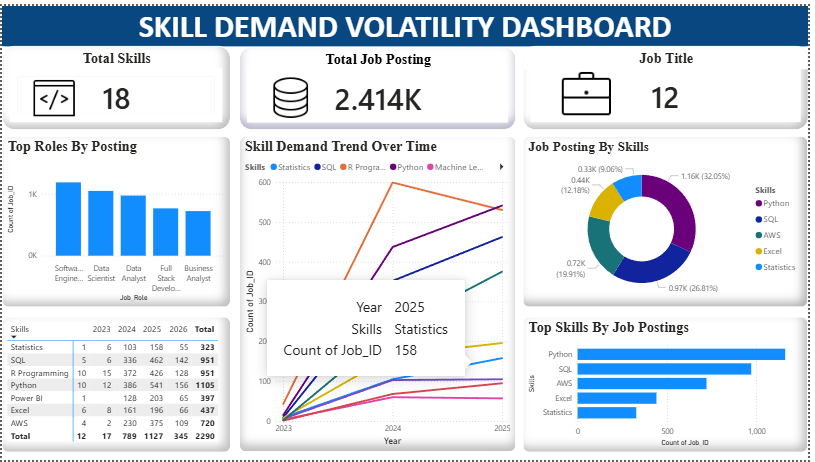

The page's visual inventory and layout, read from the dashboard file:
{"tool":"powerbi","page":{"name":"Page 1","canvas":[1280,720],"ordinal":0},"visuals":[{"type":"textbox","title":"SKILL DEMAND VOLATILITY DASHBOARD","box":[0,0,1280,63.3],"z":0},{"type":"cardVisual","title":"Total Job Posting","fields":{"Data":["Count(Bridge_Job_Skills.Job_ID)"]},"box":[376.7,64.3,439.4,131.8],"z":1000},{"type":"cardVisual","title":"Total Skills","fields":{"Data":["Count(Bridge_Job_Skills.Clean_Skill)"]},"box":[0,62.8,362.5,133.4],"z":2000},{"type":"cardVisual","title":"Job Title","fields":{"Data":["Count(Bridge_Job_Skills.Clean_Job_Title)"]},"box":[827.1,62.8,453.6,133.4],"z":3000},{"type":"clusteredBarChart","title":"Top Skills By Job Postings","fields":{"Category":["Bridge_Job_Skills.Clean_Skill"],"Y":["CountNonNull(Bridge_Job_Skills.Job_ID)"]},"box":[827.1,492.8,452,215],"z":4000},{"type":"clusteredColumnChart","title":"Top Roles By Posting","fields":{"Category":["Bridge_Job_Skills.Clean_Job_Title"],"Y":["CountNonNull(Bridge_Job_Skills.Job_ID)"]},"box":[0,207.2,362.5,271.5],"z":5000},{"type":"lineChart","title":"Skill Demand Trend Over Time","fields":{"Category":["Dim_Date.Year"],"Series":["Bridge_Job_Skills.Clean_Skill"],"Y":["CountNonNull(Bridge_Job_Skills.Job_ID)"]},"box":[376.7,207.2,439.4,500.6],"z":6000},{"type":"pivotTable","fields":{"Rows":["Bridge_Job_Skills.Clean_Skill"],"Columns":["Dim_Date.Year"],"Values":["Count(Bridge_Job_Skills.Job_ID)"]},"box":[0,492.8,362.5,215],"z":7000},{"type":"donutChart","title":"Job Posting By Skills","fields":{"Category":["Bridge_Job_Skills.Clean_Skill"],"Y":["CountNonNull(Bridge_Job_Skills.Job_ID)"]},"box":[827.1,207.2,452,271.5],"z":8000},{"type":"image","box":[17.3,113,131.8,65.9],"z":9000},{"type":"image","box":[401.8,113,113,65.9],"z":10000},{"type":"image","box":[845.9,100.4,161.7,78.5],"z":11000}]}

Visuals, with their boxes in screenshot pixels (x1, y1, x2, y2), scaled from the page's 1280x720 canvas onto the 815x462 screenshot:
"SKILL DEMAND VOLATILITY DASHBOARD" textbox: 0/0/814/41
"Total Job Posting" cardVisual: 240/41/520/126
"Total Skills" cardVisual: 0/40/231/126
"Job Title" cardVisual: 527/40/814/126
"Top Skills By Job Postings" clusteredBarChart: 527/316/814/454
"Top Roles By Posting" clusteredColumnChart: 0/133/231/307
"Skill Demand Trend Over Time" lineChart: 240/133/520/454
pivotTable - Bridge_Job_Skills.Clean_Skill x Dim_Date.Year: 0/316/231/454
"Job Posting By Skills" donutChart: 527/133/814/307
image: 11/73/95/115
image: 256/73/328/115
image: 539/64/642/115
